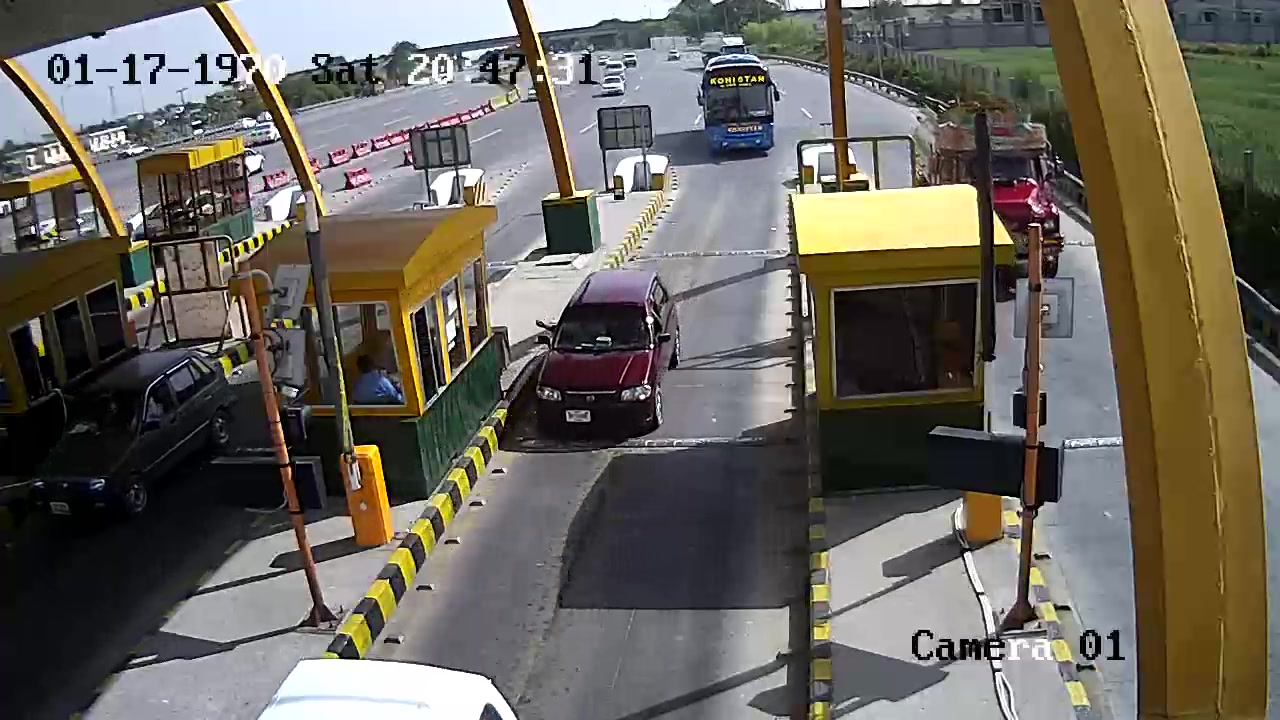F1: (523, 267, 682, 436)
